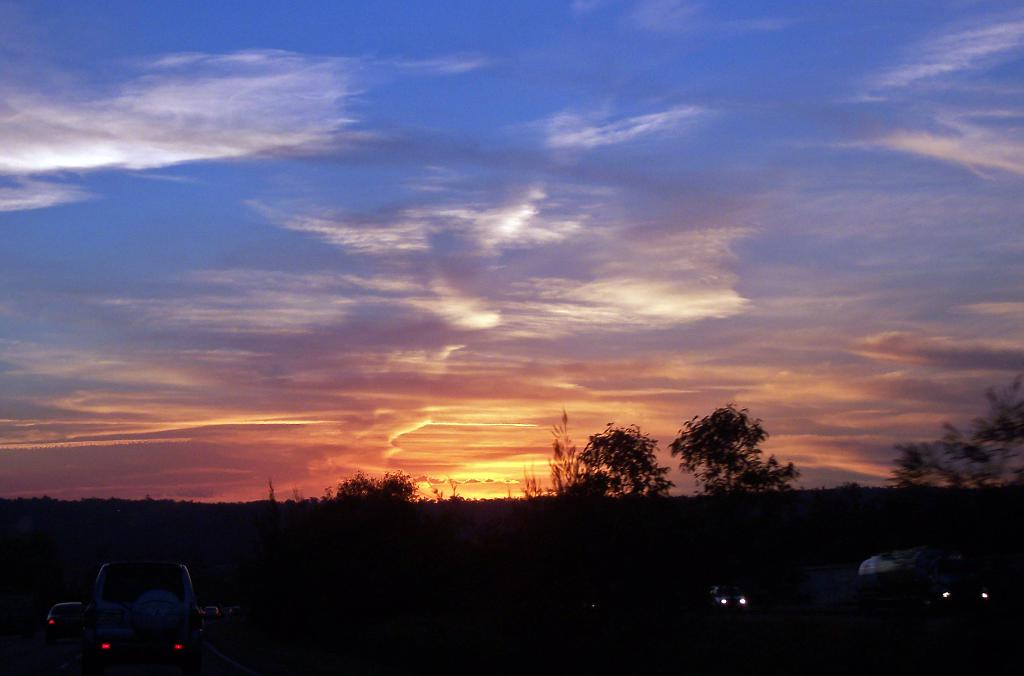Car: (81, 556, 200, 663), (712, 579, 756, 611), (48, 595, 81, 637), (204, 602, 221, 619)
